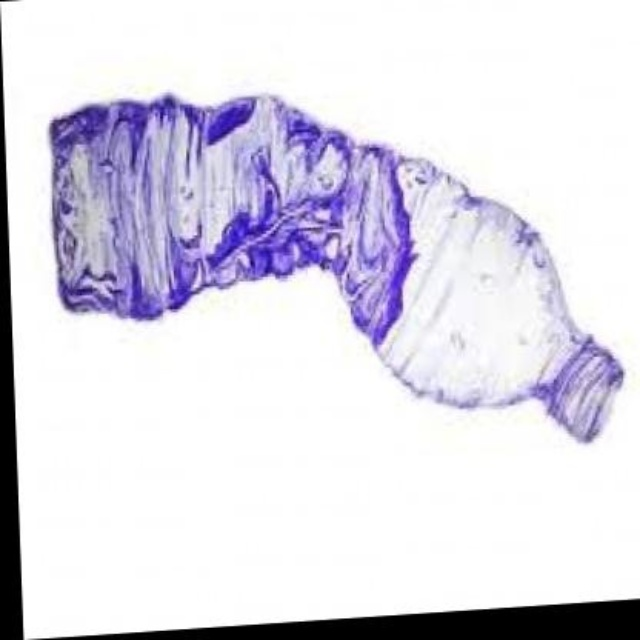trash: (51, 95, 622, 440)
